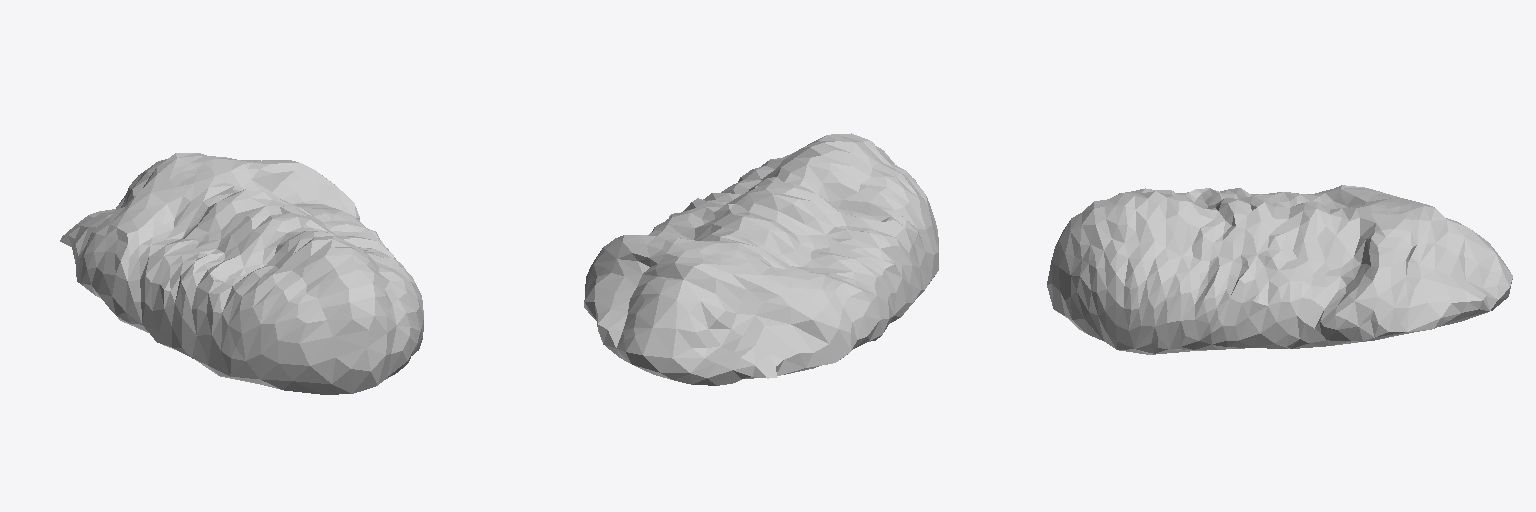
Rendered from trilobite.obj.
3 renders of one model, left to right at view 1: azimuth 30°, elevation 25°; view 2: azimuth 150°, elevation 25°; view 3: azimuth 270°, elevation 25°, orthographic.
Parts seen in each view (by area): view 1: trilobite; view 2: trilobite; view 3: trilobite.
Boxes of the visible parts, box(x1,y1,x2,y2) form: trilobite: box(60, 153, 423, 394); trilobite: box(584, 133, 938, 385); trilobite: box(1047, 185, 1512, 354).
Bounding box in the file's own units: 1.18 × 0.544 × 1.84.